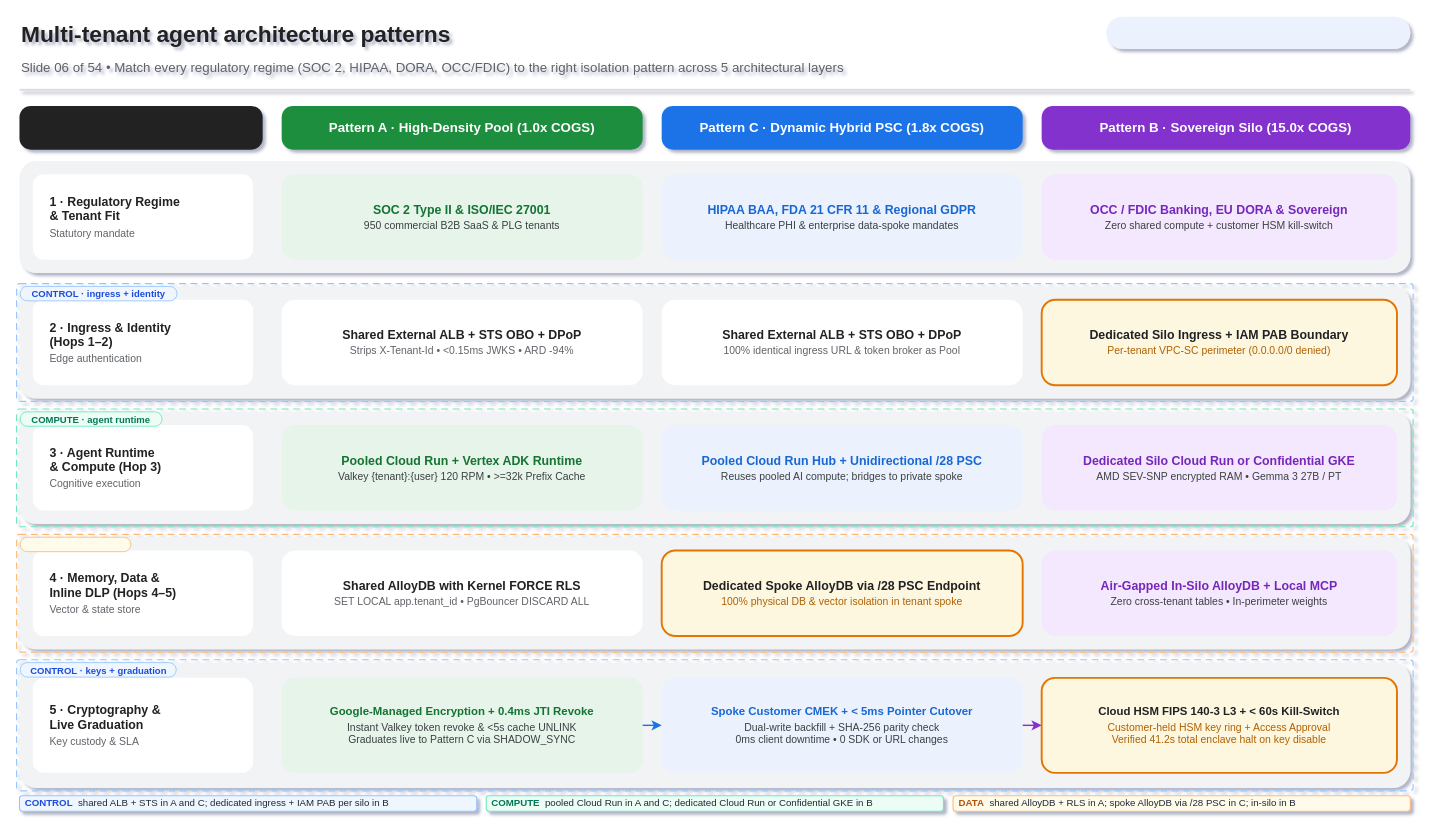
Image size: 1436x833. Some labels were removed from this diagram. Here are the shapes that lost their labels. From the top down, the box of each, then its label:
(1106, 16, 1410, 48): SOC 2 • HIPAA • DORA • OCC/FDIC
(19, 105, 262, 149): ARCHITECTURAL LAYER
(19, 536, 131, 552): DATA · Hop 5 stores
